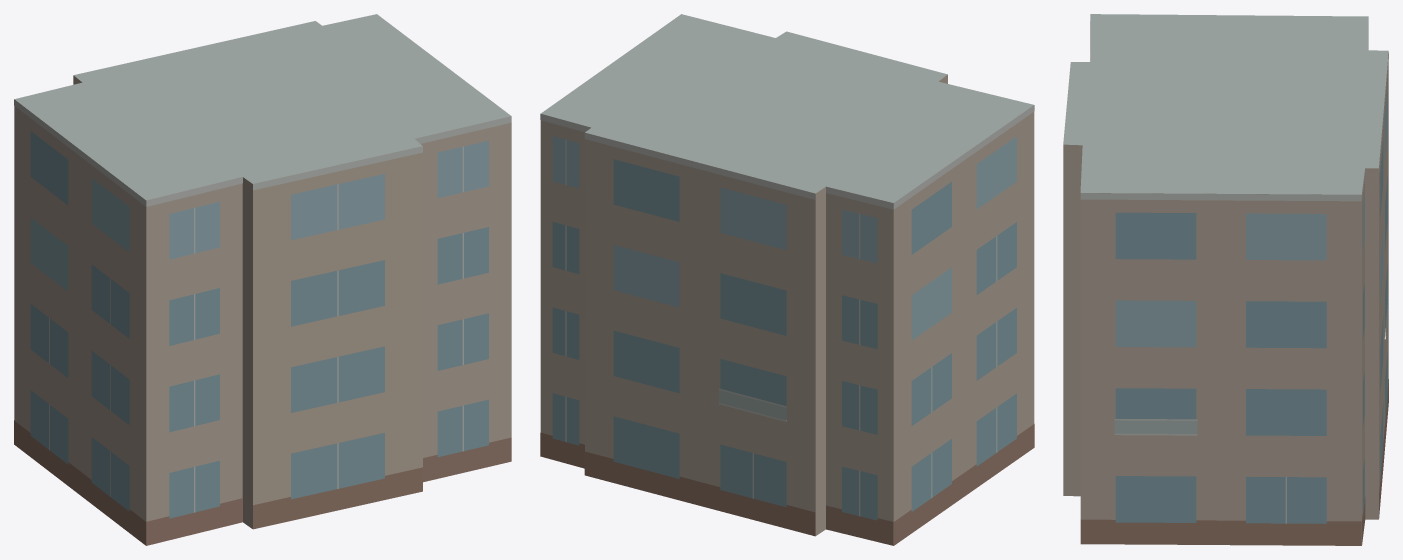
The model's file is survey-upis-32642100.glb.
3 views of the same model, side by side, from view 1: azimuth 30°, elevation 25°; view 2: azimuth 150°, elevation 25°; view 3: azimuth 270°, elevation 25° (orthographic). The views are drawn at different scales.
Visible parts, largest first — view 1: survey-upis-32642100.tmp; view 2: survey-upis-32642100.tmp; view 3: survey-upis-32642100.tmp.
Boxes of the visible parts, box(x1,y1,x2,y2) form: survey-upis-32642100.tmp: box(14, 14, 511, 545); survey-upis-32642100.tmp: box(540, 14, 1034, 545); survey-upis-32642100.tmp: box(1063, 14, 1388, 545).
Size of the model in its own units: 14.36 by 13 by 10.94.
